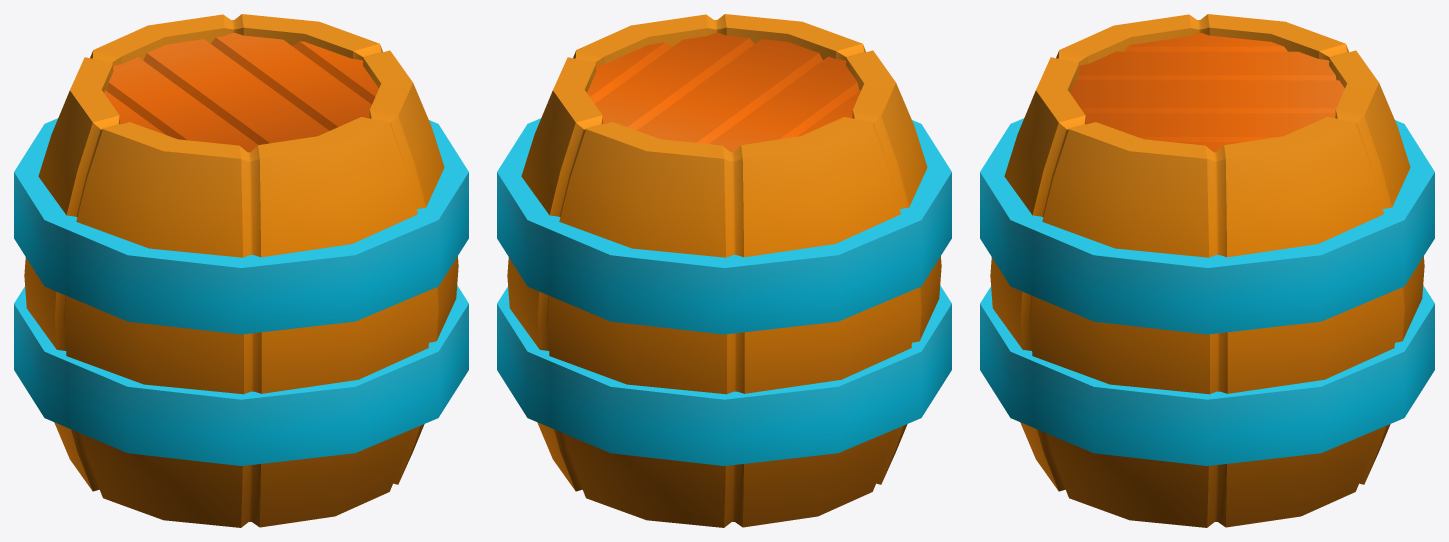
Rendered from Prop_Wooden_Barrel_01.fbx.
3 views of the same model, side by side, from view 1: azimuth 30°, elevation 25°; view 2: azimuth 150°, elevation 25°; view 3: azimuth 270°, elevation 25° (orthographic).
Visible parts, largest first — view 1: Prop_Wooden_Barrel_01; view 2: Prop_Wooden_Barrel_01; view 3: Prop_Wooden_Barrel_01.
Part boxes in pixels (box(x1,y1,x2,y2)): Prop_Wooden_Barrel_01: box(14, 14, 468, 527); Prop_Wooden_Barrel_01: box(497, 14, 951, 527); Prop_Wooden_Barrel_01: box(980, 14, 1434, 527).
Size of the model in its own units: 127 by 113 by 127.
